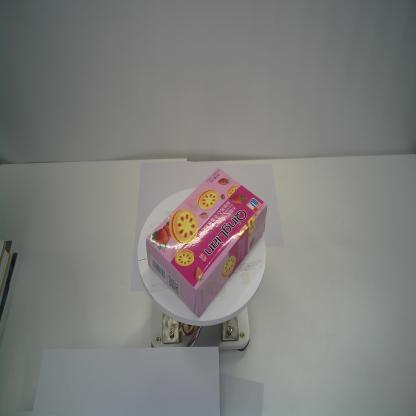Dessert: (145, 165, 268, 320)
